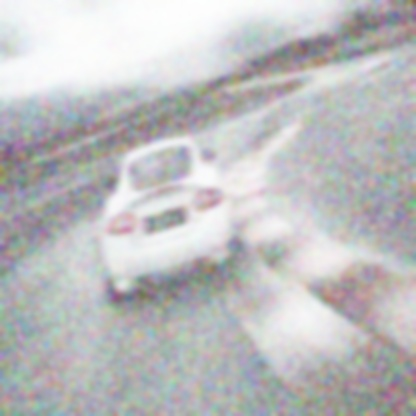Vehicle: (99, 135, 237, 303)
